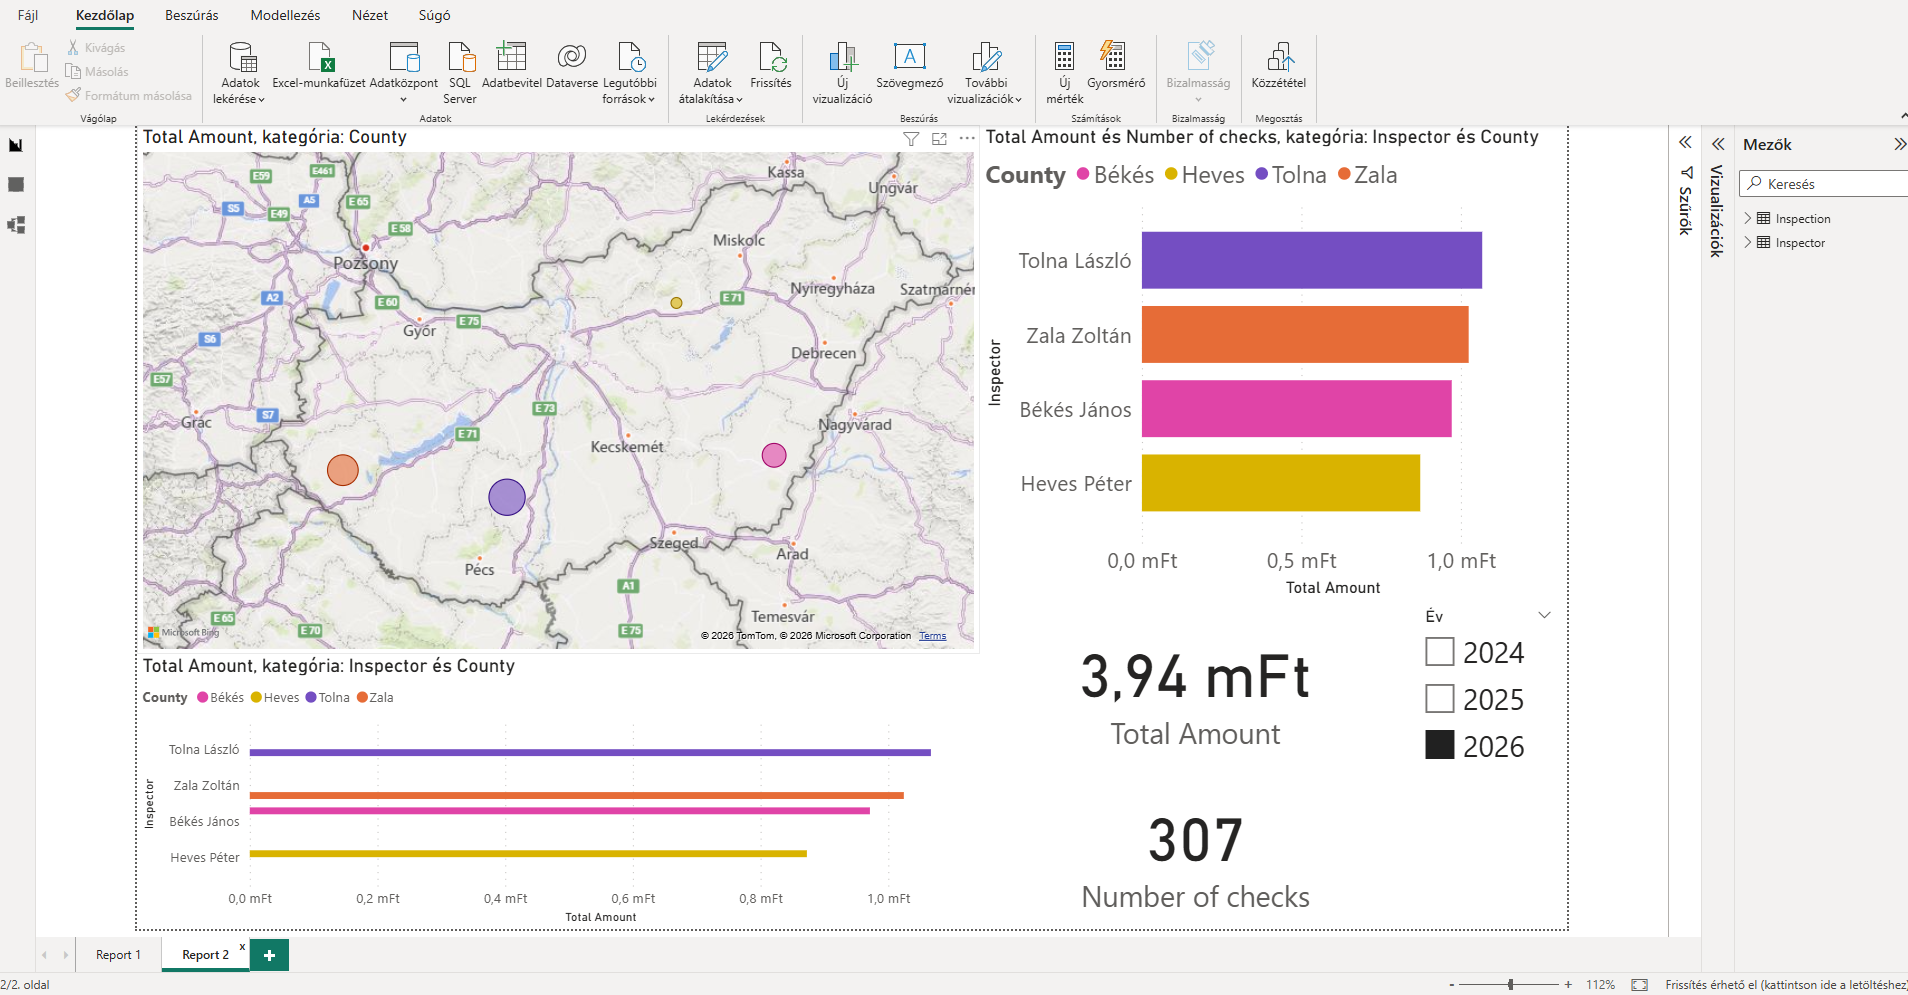

The dashboard page shown, as its layout file describes it:
{"tool":"powerbi","page":{"name":"Report 2","canvas":[1280,720],"ordinal":1},"visuals":[{"type":"map","fields":{"Category":["Inspector.County"],"Size":["Inspection.Total Amount"]},"box":[0,0,754.9,473.7],"z":0},{"type":"slicer","fields":{"Values":["Inspection.Date.Változat.Dátumhierarchia.Év"]},"box":[1140.9,427.2,138.8,292.8],"z":1000},{"type":"clusteredBarChart","fields":{"Y":["Inspection.Total Amount"],"Category":["Inspector.Inspector"],"Series":["Inspector.County"]},"box":[0,473.7,754.9,246.3],"z":2000},{"type":"barChart","fields":{"Category":["Inspector.Inspector"],"Y":["Inspection.Total Amount"],"Series":["Inspector.County"]},"box":[754.9,0,524.8,427.2],"z":3000},{"type":"card","fields":{"Values":["Inspection.Total Amount"]},"box":[754.9,427.2,386,152.2],"z":3001},{"type":"card","fields":{"Values":["Inspection.Number of checks"]},"box":[754.9,579.4,386,140.6],"z":3002}]}

Visuals, with their boxes on the page's 1280x720 design canvas (x1, y1, x2, y2). These are canvas units, not pixel positions in the 1908x995 screenshot, which may show the page scaled, cropped or inside an application window:
map - Inspector.County x Inspection.Total Amount: l=0, t=0, r=755, b=474
slicer - Inspection.Date.Változat.Dátumhierarchia.Év: l=1141, t=427, r=1280, b=720
clusteredBarChart - Inspection.Total Amount x Inspector.Inspector: l=0, t=474, r=755, b=720
barChart - Inspector.Inspector x Inspection.Total Amount: l=755, t=0, r=1280, b=427
card - Inspection.Total Amount: l=755, t=427, r=1141, b=579
card - Inspection.Number of checks: l=755, t=579, r=1141, b=720
